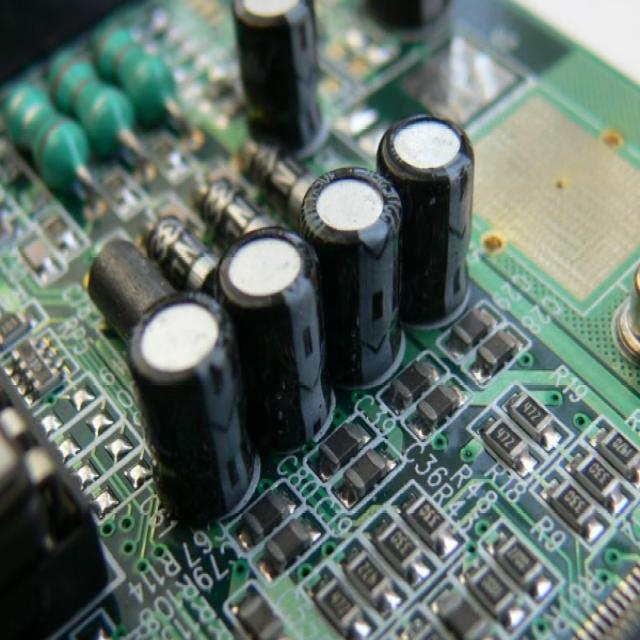Electrolytic capacitor: (128, 293, 260, 524), (216, 221, 334, 453), (300, 162, 406, 386), (376, 102, 477, 327), (226, 0, 342, 149)
diode: (140, 211, 221, 295), (197, 168, 272, 247)
